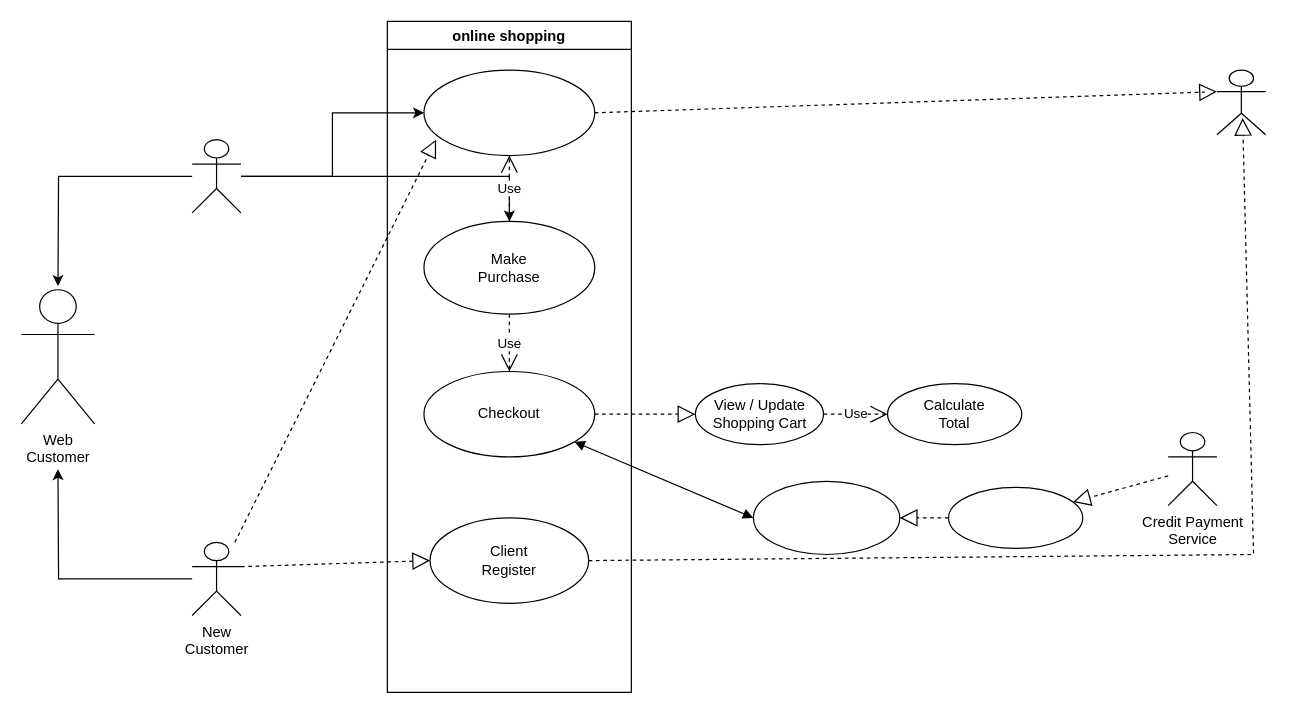
Image size: 1309x714. Some labels were removed from this diagram. Here are the shapes that lost their labels. From the top down, the centre of each, then its label:
point 509,112: View items
point 1241,102: <<Service>> Authentication
point 216,175: Register Customer
point 826,517: Payment
point 1015,517: Payment By Credit
